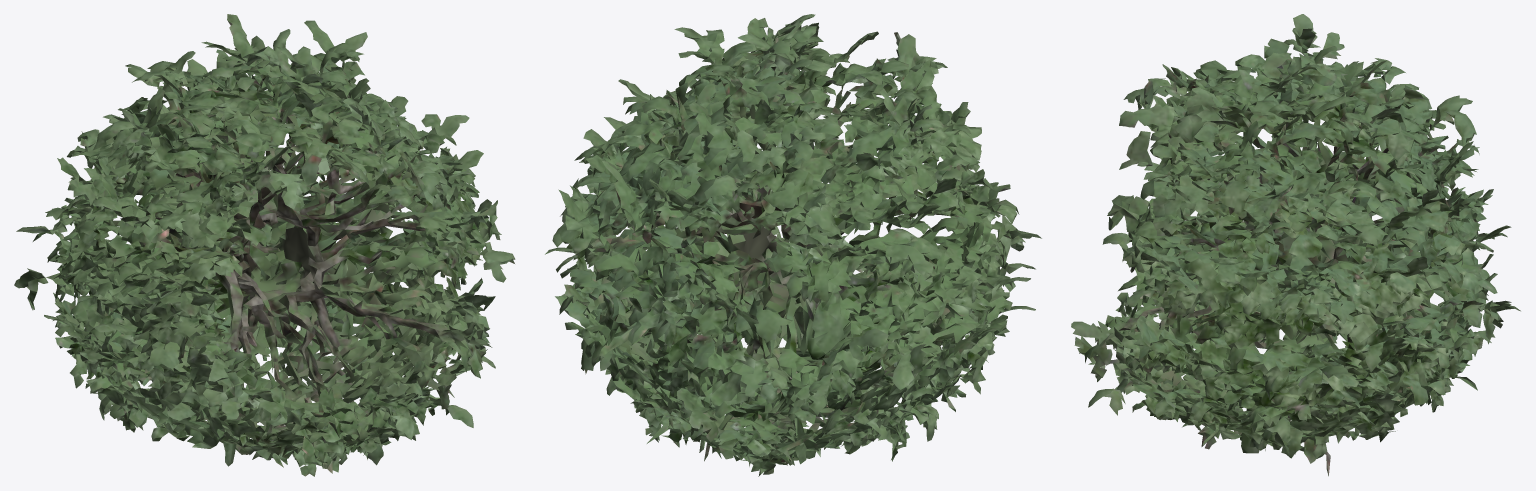
Rendered from lookout_canopy.glb.
3 views of the same model, side by side, from view 1: azimuth 30°, elevation 25°; view 2: azimuth 150°, elevation 25°; view 3: azimuth 270°, elevation 25° (orthographic). The views are drawn at different scales.
Visible parts, largest first — view 1: geometry_0; view 2: geometry_0; view 3: geometry_0.
Boxes of the visible parts, x1=… form: geometry_0: x1=14, y1=14, x2=515, y2=476; geometry_0: x1=545, y1=14, x2=1041, y2=476; geometry_0: x1=1071, y1=14, x2=1520, y2=476.
Size of the model in its own units: 0.6 by 0.5817 by 0.5979.
1 material, 1 textured.
